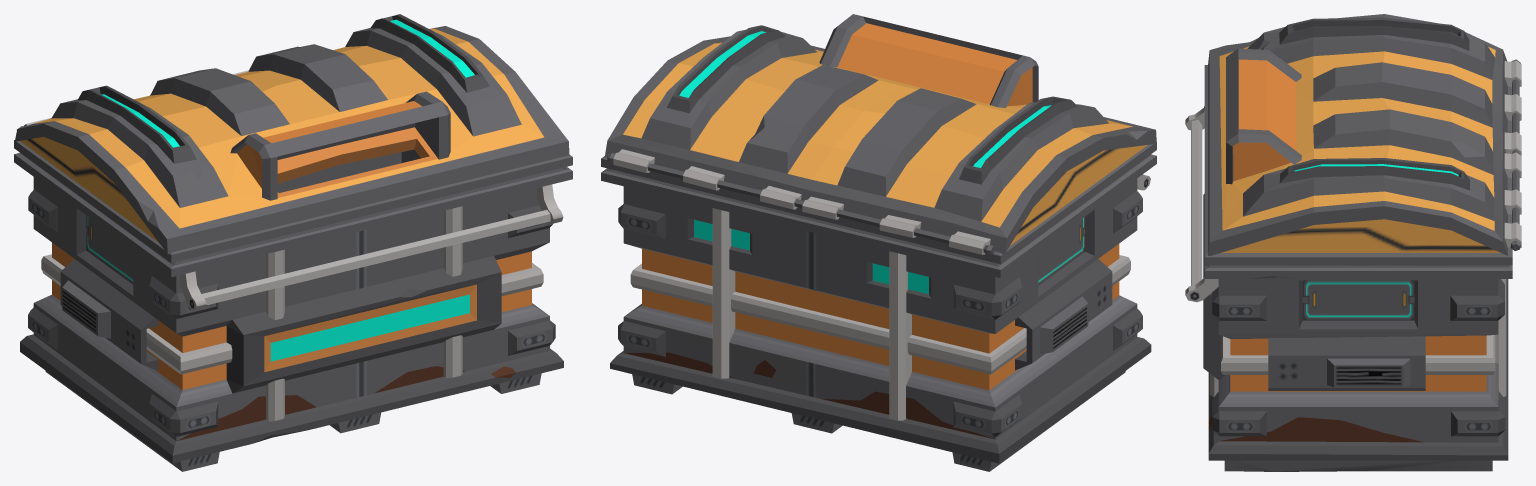
The model's file is SM_Prop_Trash_Skip_01.fbx.
3 views of the same model, side by side, from view 1: azimuth 30°, elevation 25°; view 2: azimuth 150°, elevation 25°; view 3: azimuth 270°, elevation 25° (orthographic). The views are drawn at different scales.
Parts seen in each view (by area): view 1: SM_Prop_Trash_Skip_01; view 2: SM_Prop_Trash_Skip_01; view 3: SM_Prop_Trash_Skip_01.
Part boxes in pixels (x1=…): SM_Prop_Trash_Skip_01: x1=14, y1=14, x2=572, y2=471; SM_Prop_Trash_Skip_01: x1=601, y1=14, x2=1156, y2=471; SM_Prop_Trash_Skip_01: x1=1185, y1=14, x2=1521, y2=471.
Bounding box in the file's own units: 157 × 112 × 116.
